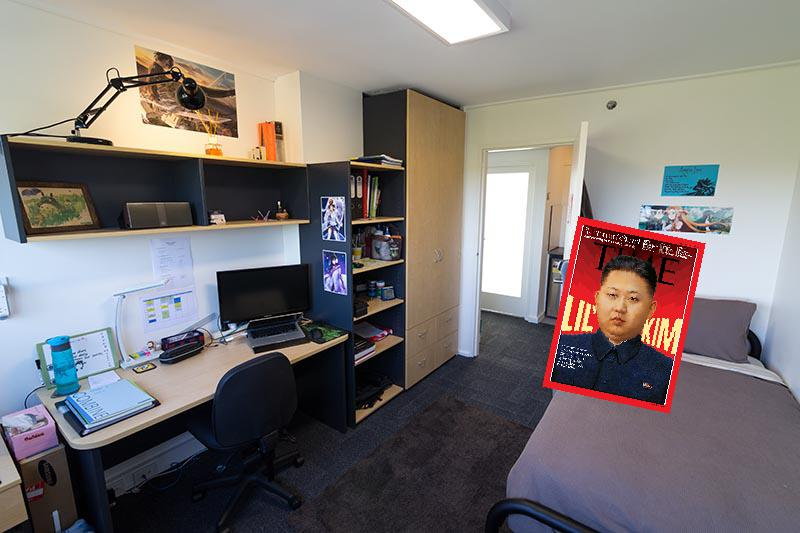times: (537, 212, 705, 413)
